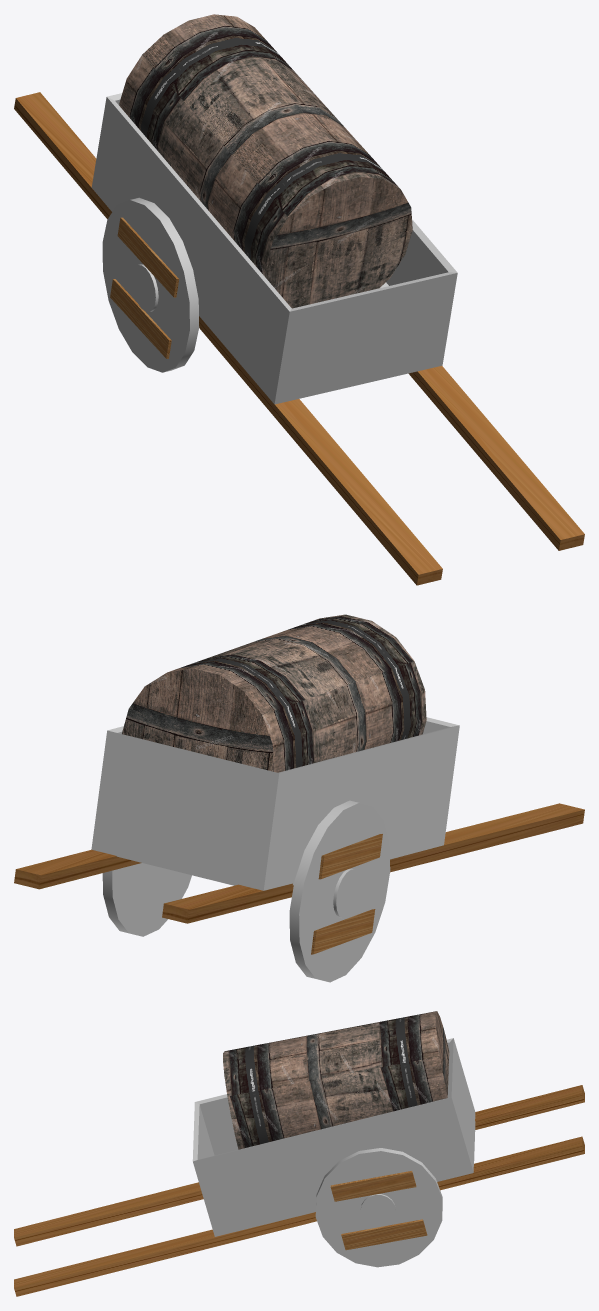
Rendered from carroca-medieval.obj.
3 renders of one model, top to bottom at view 1: azimuth 30°, elevation 25°; view 2: azimuth 150°, elevation 25°; view 3: azimuth 270°, elevation 25°, orthographic. The views are drawn at different scales.
Parts seen in each view (by area): view 1: barril, Box003, Box001, Cylinder001, Box004, Box007, Box008, Cylinder003; view 2: Box003, barril, Cylinder001, Box001, Cylinder002, Box004, Box008, Box007, Cylinder003; view 3: barril, Box003, Cylinder002, Box004, Box001, Box005, Box006, Cylinder004.
Boxes of the visible parts, bbox=[...] form: barril: bbox=[119, 14, 412, 308]; Box003: bbox=[91, 93, 457, 404]; Box001: bbox=[14, 92, 442, 585]; Cylinder001: bbox=[102, 197, 199, 372]; Box004: bbox=[408, 366, 584, 550]; Box007: bbox=[117, 217, 179, 297]; Box008: bbox=[110, 279, 171, 358]; Cylinder003: bbox=[131, 264, 158, 311]; Box003: bbox=[91, 717, 459, 890]; barril: bbox=[122, 614, 426, 772]; Cylinder001: bbox=[289, 800, 390, 982]; Box001: bbox=[162, 803, 584, 923]; Cylinder002: bbox=[102, 863, 191, 936]; Box004: bbox=[14, 849, 141, 889]; Box008: bbox=[311, 909, 375, 954]; Box007: bbox=[318, 834, 382, 879]; Cylinder003: bbox=[333, 868, 361, 918]; barril: bbox=[223, 1011, 449, 1149]; Box003: bbox=[192, 1038, 475, 1236]; Cylinder002: bbox=[315, 1148, 442, 1267]; Box004: bbox=[14, 1136, 584, 1296]; Box001: bbox=[14, 1085, 584, 1246]; Box005: bbox=[330, 1171, 416, 1201]; Box006: bbox=[341, 1219, 427, 1250]; Cylinder004: bbox=[360, 1194, 395, 1226].
Size of the model in its own units: 30.46 by 50.69 by 107.
